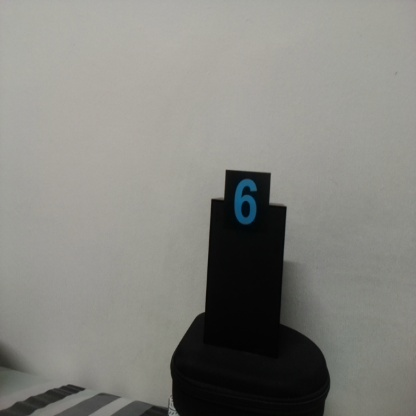id_6: (224, 172, 269, 245)
